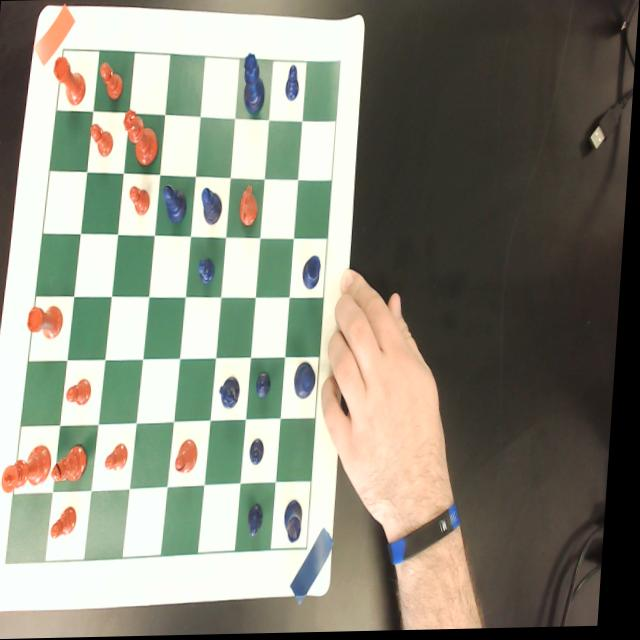B: (163, 183, 190, 225), (202, 185, 225, 226)
K: (297, 362, 321, 401)
N: (223, 377, 246, 411)
P: (284, 64, 301, 103), (253, 503, 271, 538), (199, 257, 219, 285), (259, 371, 277, 400), (254, 438, 270, 466)
Q: (241, 52, 268, 116)
R: (290, 500, 310, 543), (304, 255, 324, 291)
b: (56, 444, 94, 489), (179, 439, 203, 475)
k: (7, 443, 57, 493)
n: (240, 185, 262, 227)
p: (98, 61, 125, 101), (89, 121, 116, 158), (57, 505, 83, 539), (109, 441, 135, 472), (70, 377, 97, 406), (130, 184, 153, 216)
q: (121, 108, 162, 166)
r: (51, 53, 89, 107), (29, 300, 68, 341)
